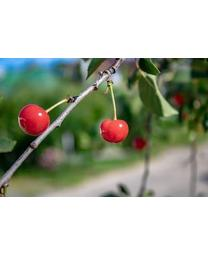cherry: (18, 103, 49, 134), (100, 119, 130, 144)
